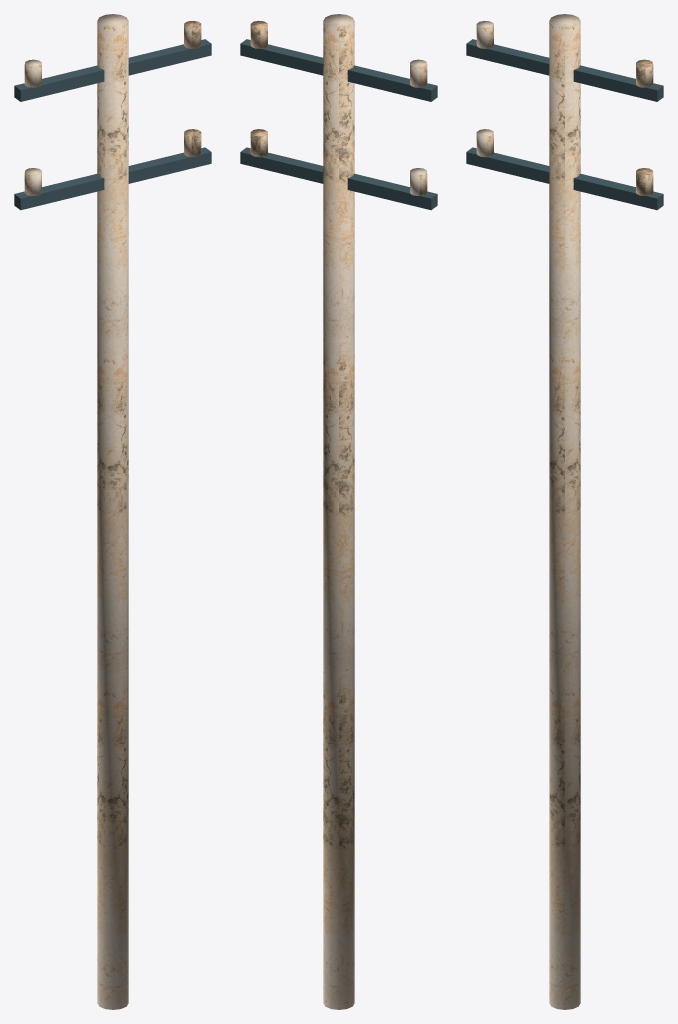
The model's file is utility_pole.glb.
3 renders of one model, left to right at view 1: azimuth 30°, elevation 25°; view 2: azimuth 150°, elevation 25°; view 3: azimuth 330°, elevation 25°, orthographic.
Visible parts, largest first — view 1: utility_pole__VVK_concrete_CC0, utility_pole__VVK_painted_steel; view 2: utility_pole__VVK_concrete_CC0, utility_pole__VVK_painted_steel; view 3: utility_pole__VVK_concrete_CC0, utility_pole__VVK_painted_steel.
Boxes of the visible parts, x1=… form: utility_pole__VVK_concrete_CC0: x1=24, y1=14, x2=201, y2=1009; utility_pole__VVK_painted_steel: x1=14, y1=39, x2=211, y2=210; utility_pole__VVK_concrete_CC0: x1=250, y1=14, x2=427, y2=1009; utility_pole__VVK_painted_steel: x1=240, y1=39, x2=437, y2=210; utility_pole__VVK_concrete_CC0: x1=476, y1=14, x2=653, y2=1009; utility_pole__VVK_painted_steel: x1=466, y1=39, x2=663, y2=210.
Size of the model in its own units: 1.2 by 5.9 by 0.17.
2 materials, 1 textured.
